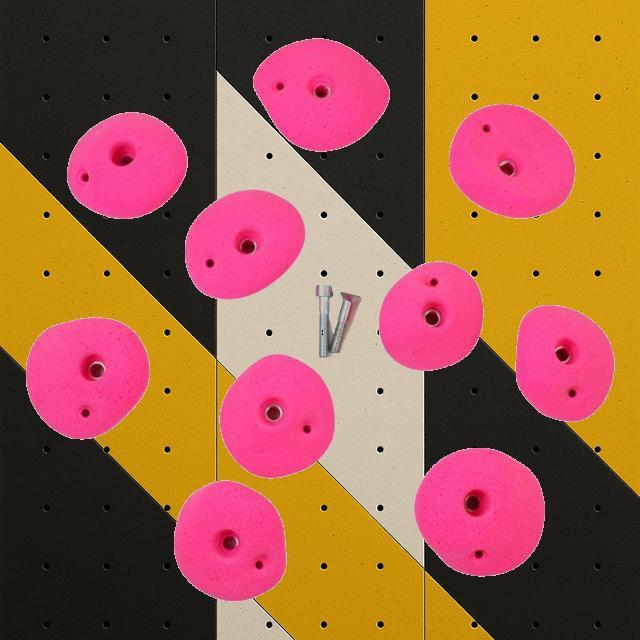Jug: (414, 446, 544, 576), (252, 36, 390, 152), (25, 316, 149, 439), (448, 102, 576, 218), (219, 354, 335, 478), (184, 188, 306, 300), (174, 479, 286, 601), (66, 111, 188, 219), (516, 303, 614, 421), (378, 262, 482, 371)
